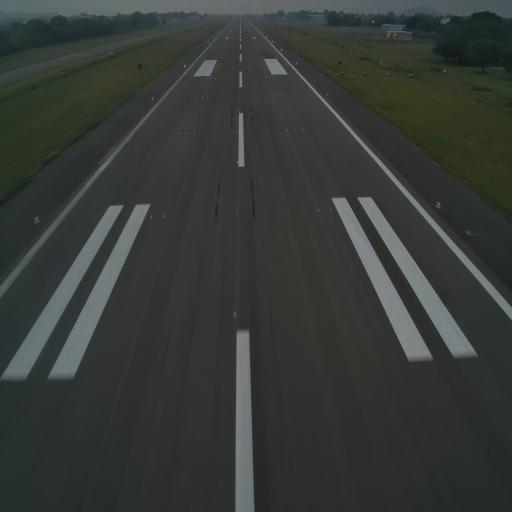off: (234, 208, 240, 218)
on: (32, 215, 40, 227), (338, 204, 346, 214), (435, 200, 441, 211), (160, 212, 167, 221), (232, 308, 237, 320), (149, 212, 154, 223), (234, 158, 239, 168), (328, 204, 333, 214), (316, 205, 320, 214), (136, 214, 140, 222)
